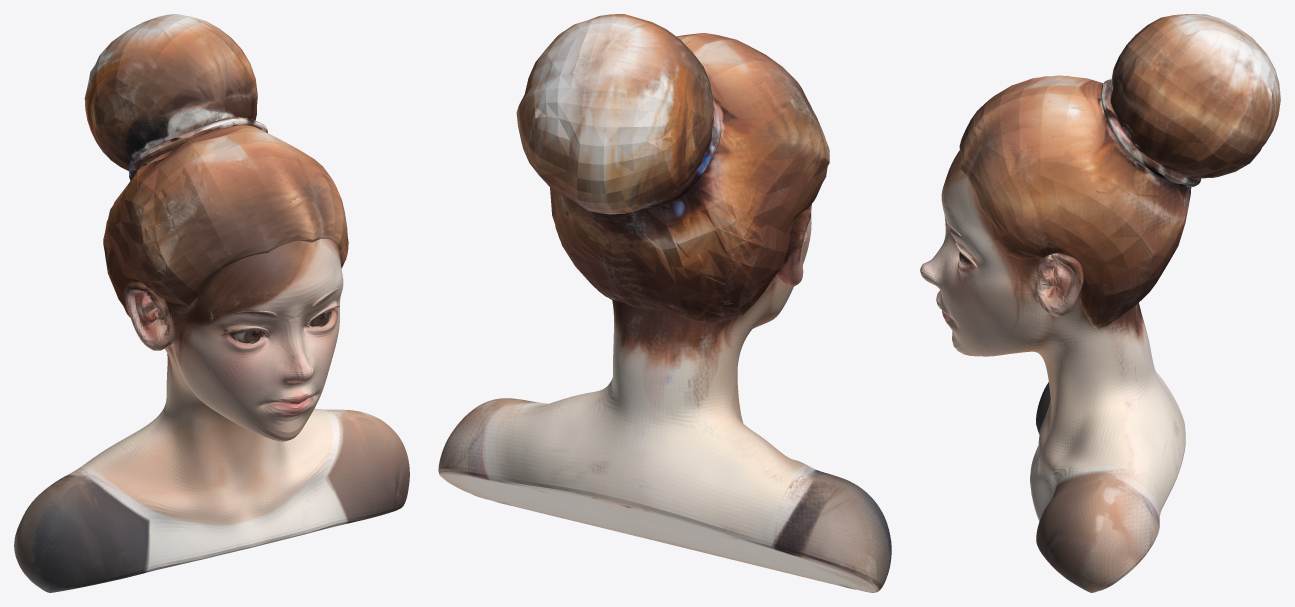
File: girl.glb
The picture shows the model from 3 angles, left to right: view 1: azimuth 30°, elevation 25°; view 2: azimuth 150°, elevation 25°; view 3: azimuth 270°, elevation 25°; orthographic projection. The views are drawn at different scales.
Size of the model in its own units: 1.46 by 1.8 by 1.2.
Materials: 1 (1 with a texture image).
